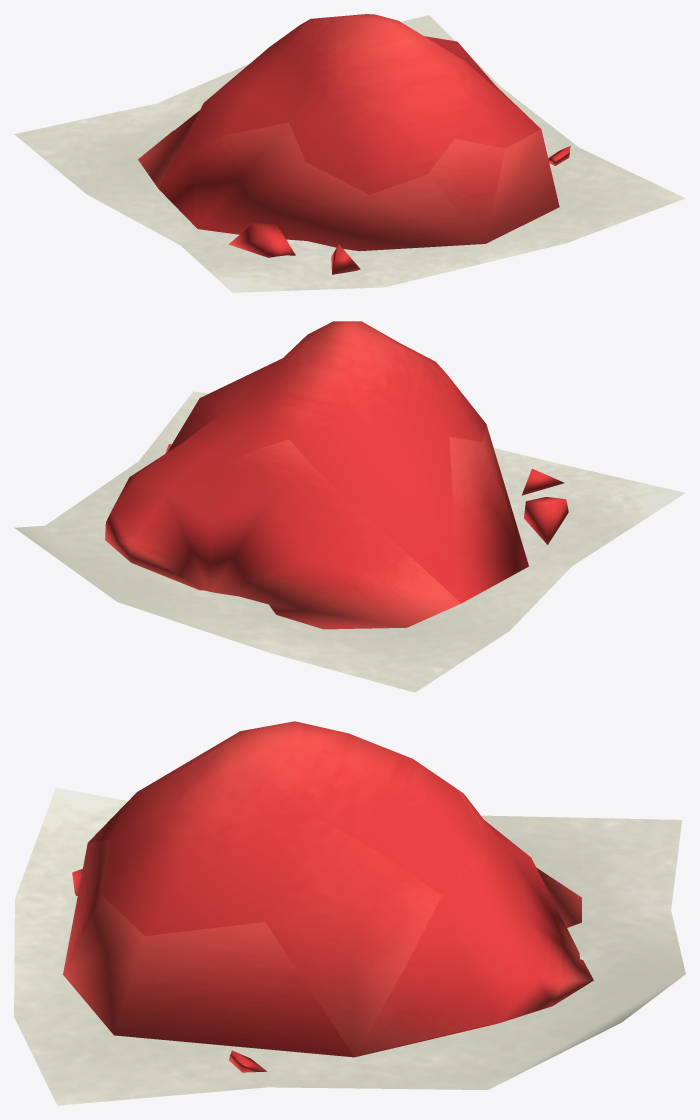
Rendered from RedBug_Cutted.fbx.
3 views of the same model, one above another, from view 1: azimuth 30°, elevation 25°; view 2: azimuth 150°, elevation 25°; view 3: azimuth 270°, elevation 25° (orthographic). The views are drawn at different scales.
Visible parts, largest first — view 1: RedBug_mud; view 2: RedBug_mud; view 3: RedBug_mud.
Boxes of the visible parts, box(x1,y1,x2,y2) form: RedBug_mud: box(14, 14, 685, 292); RedBug_mud: box(14, 321, 685, 692); RedBug_mud: box(14, 721, 685, 1105).
Size of the model in its own units: 70.92 by 25.91 by 68.06.
Materials: 1 (1 with a texture image).
